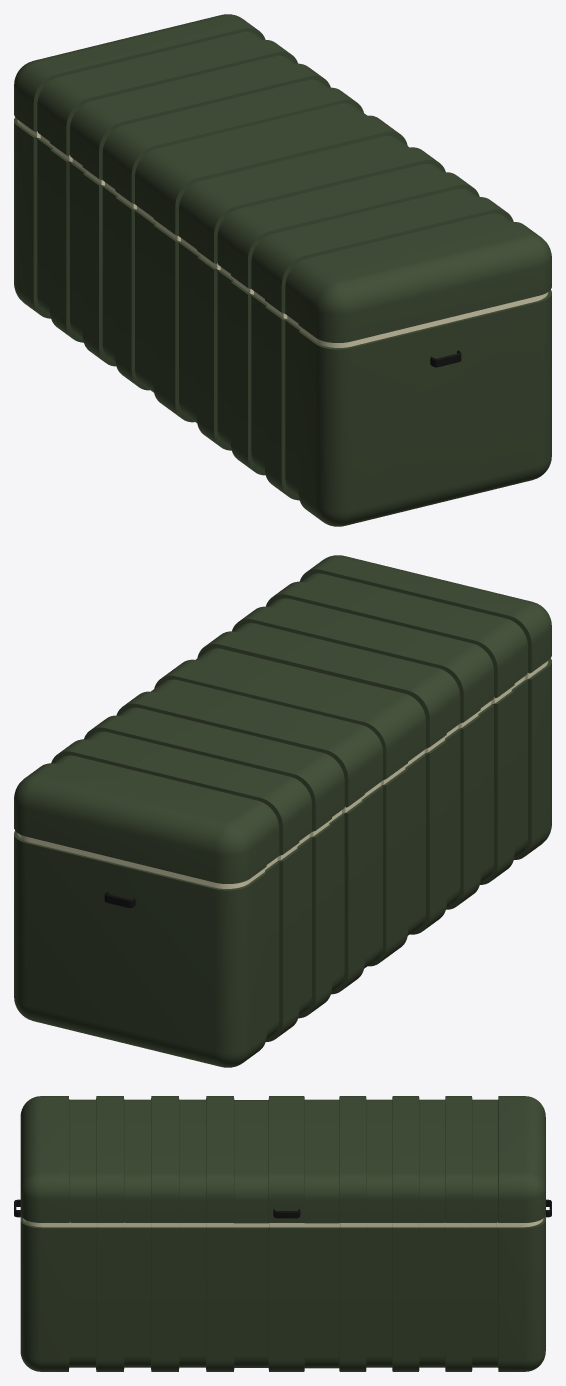
The model's file is militaryBox3.glb.
The picture shows the model from 3 angles, top to bottom: view 1: azimuth 30°, elevation 25°; view 2: azimuth 150°, elevation 25°; view 3: azimuth 270°, elevation 25°; orthographic projection. The views are drawn at different scales.
Parts seen in each view (by area): view 1: Box3; view 2: Box3; view 3: Box3.
Part boxes in pixels (x1,y1,x2,y2): Box3: (14, 14, 551, 526); Box3: (14, 555, 551, 1067); Box3: (14, 1096, 551, 1371).
Bounding box in the file's own units: 0.77 × 0.75 × 1.85.
